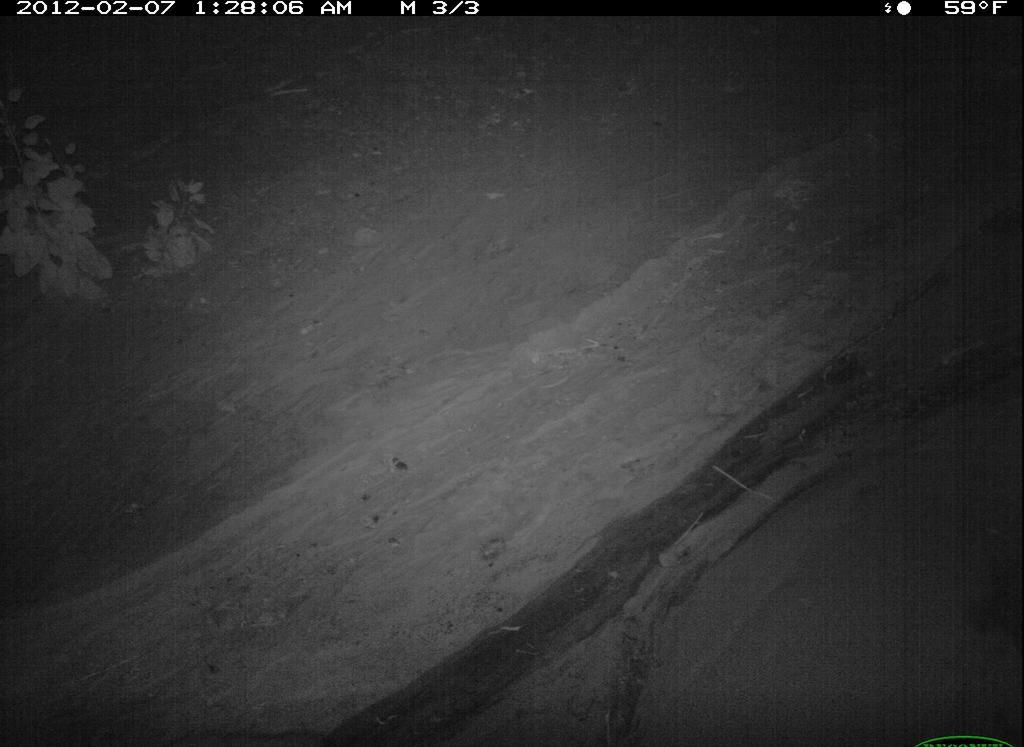coyote: (9, 6, 1024, 747)
